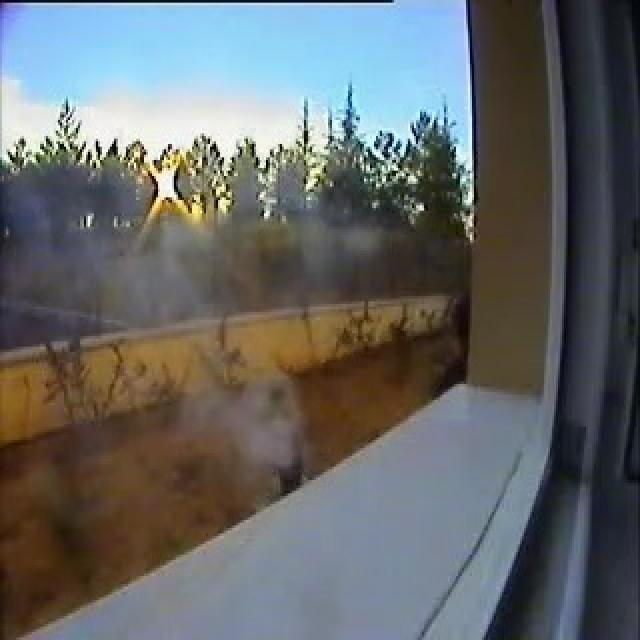smoke: (185, 368, 294, 458)
